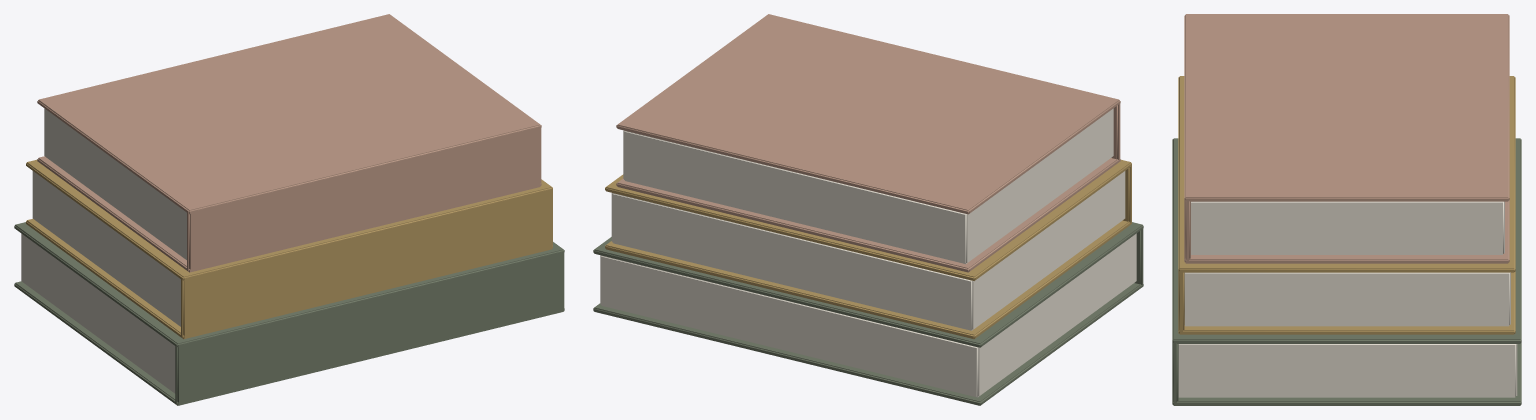
File: contemporary.book_stack.gltf
The picture shows the model from 3 angles, left to right: view 1: azimuth 30°, elevation 25°; view 2: azimuth 150°, elevation 25°; view 3: azimuth 270°, elevation 25°; orthographic projection. The views are drawn at different scales.
Parts seen in each view (by area): view 1: contemporary.book_stack.pages; view 2: contemporary.book_stack.pages; view 3: contemporary.book_stack.pages.
Boxes of the visible parts, box(x1,y1,x2,y2) form: contemporary.book_stack.pages: box(14, 14, 564, 405); contemporary.book_stack.pages: box(593, 14, 1143, 405); contemporary.book_stack.pages: box(1172, 14, 1521, 405).
Bounding box in the file's own units: 0.26 × 0.12 × 0.19.
